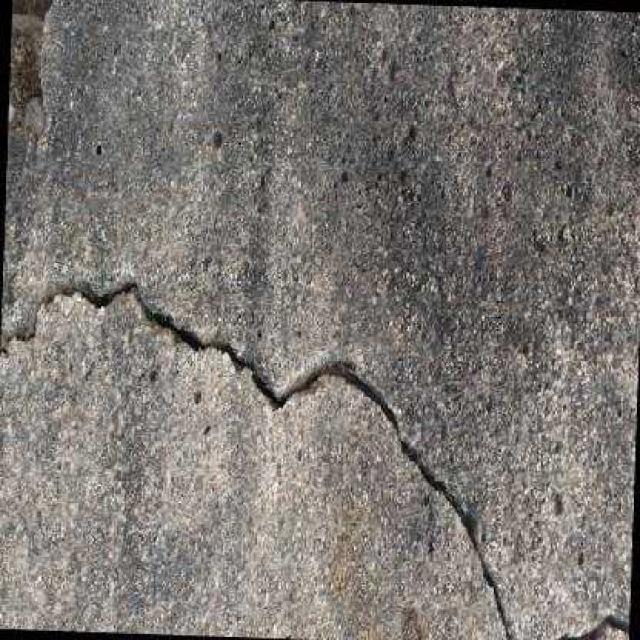D00: (0, 280, 515, 640)
